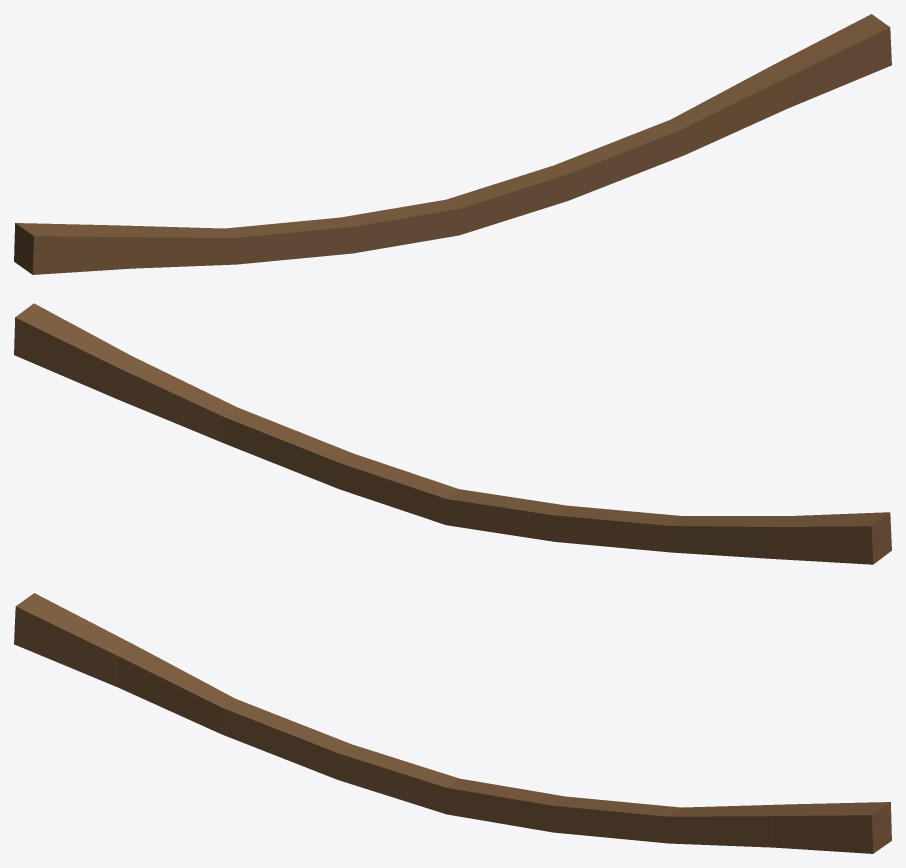
Rendered from Beam_003.fbx.
3 views of the same model, one above another, from view 1: azimuth 30°, elevation 25°; view 2: azimuth 150°, elevation 25°; view 3: azimuth 330°, elevation 25° (orthographic).
Parts seen in each view (by area): view 1: Beam.003; view 2: Beam.003; view 3: Beam.003.
Part boxes in pixels (<box>): Beam.003: <box>14,14,891,274</box>; Beam.003: <box>14,303,891,564</box>; Beam.003: <box>14,593,891,853</box>.
Size of the model in its own units: 525 by 61.85 by 20.13.
